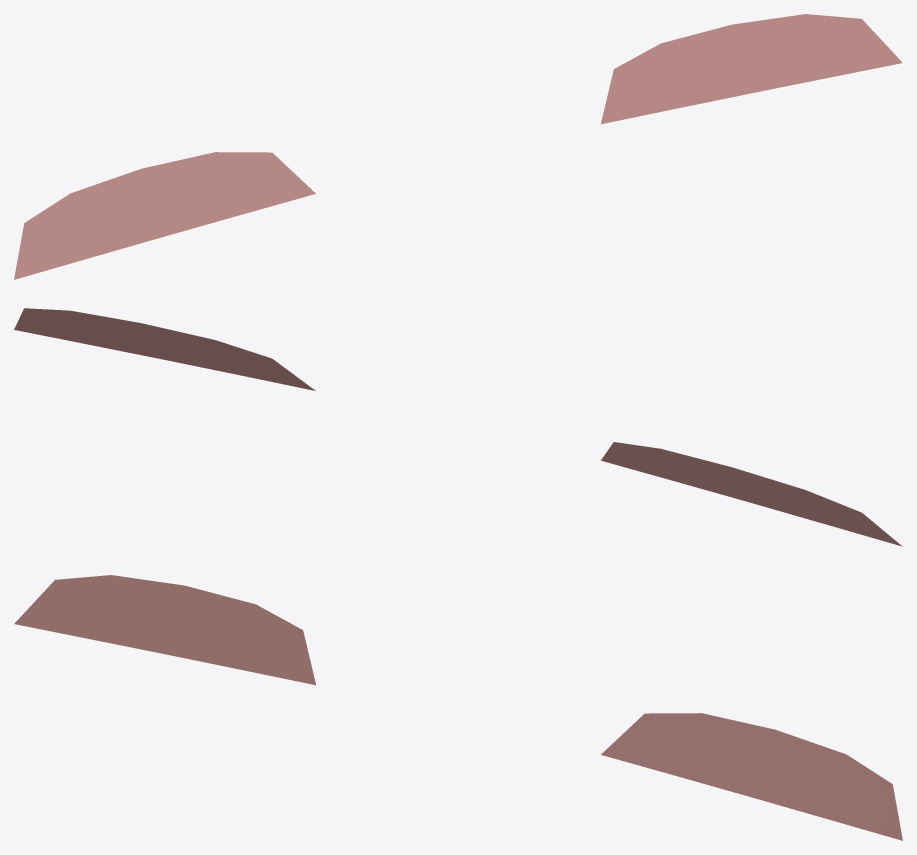
The model's file is R34_RoofScoop_02_Trim.fbx.
3 renders of one model, top to bottom at view 1: azimuth 30°, elevation 25°; view 2: azimuth 150°, elevation 25°; view 3: azimuth 330°, elevation 25°, orthographic.
Parts seen in each view (by area): view 1: R34_RoofScoop_02_Trim; view 2: R34_RoofScoop_02_Trim; view 3: R34_RoofScoop_02_Trim.
Part boxes in pixels (left/top/right/bottom): R34_RoofScoop_02_Trim: left=14, top=14, right=902, bottom=279; R34_RoofScoop_02_Trim: left=14, top=308, right=902, bottom=546; R34_RoofScoop_02_Trim: left=14, top=575, right=902, bottom=840.
Bounding box in the file's own units: 62.8 × 3.98 × 2.66.
